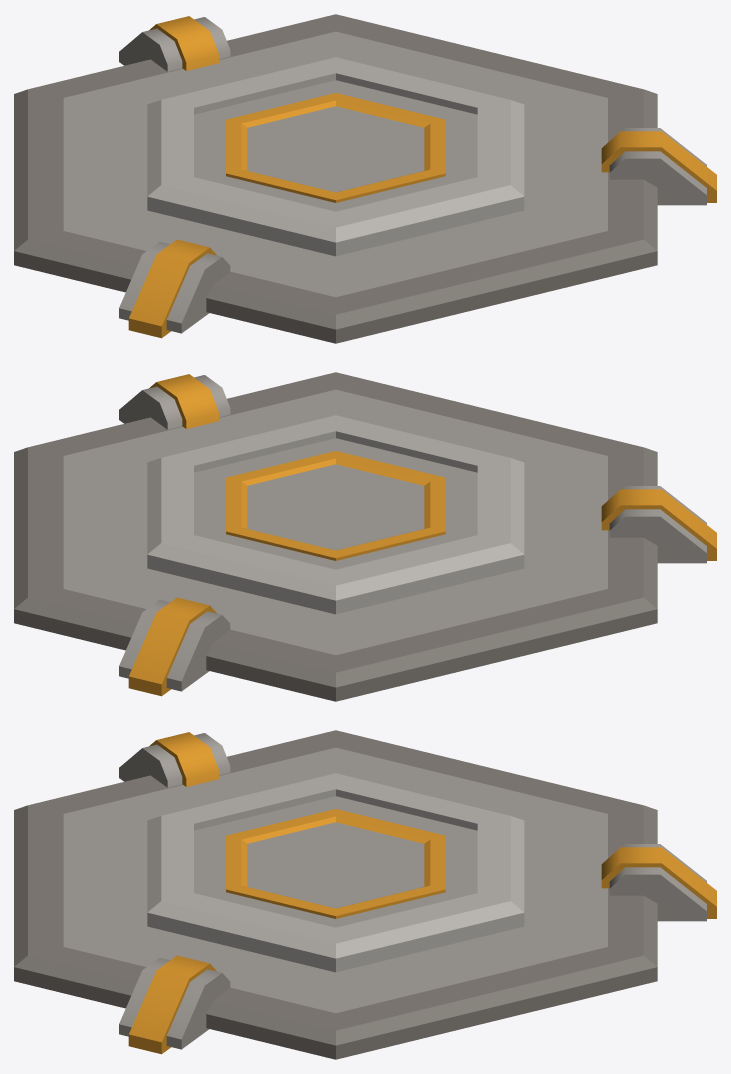
Rendered from Portal 01.FBX.
The picture shows the model from 3 angles, top to bottom: view 1: azimuth 30°, elevation 25°; view 2: azimuth 150°, elevation 25°; view 3: azimuth 270°, elevation 25°; orthographic projection.
Visible parts, largest first — view 1: Portal 01; view 2: Portal 01; view 3: Portal 01.
Boxes of the visible parts, x1,y1,x2,y2 form: Portal 01: [14, 14, 716, 343]; Portal 01: [14, 372, 716, 701]; Portal 01: [14, 730, 716, 1059].
Size of the model in its own units: 278 by 22.89 by 263.
1 material, 1 textured.
